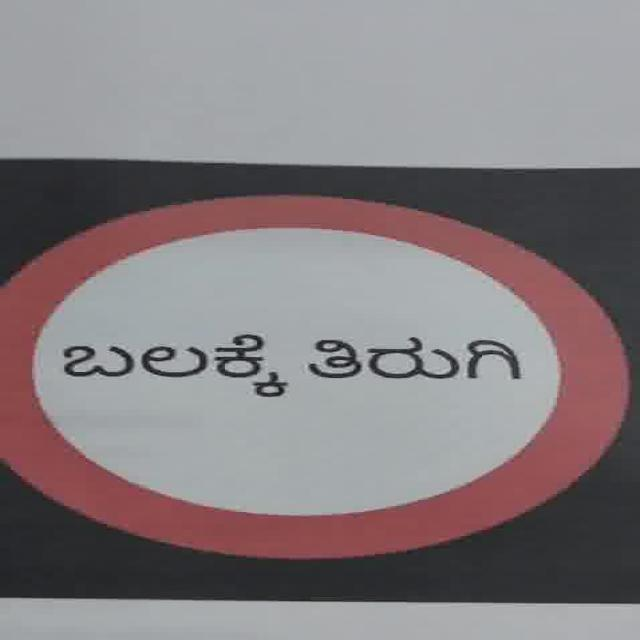kannadaright: (1, 190, 632, 560), (58, 332, 526, 396), (306, 335, 524, 381)
